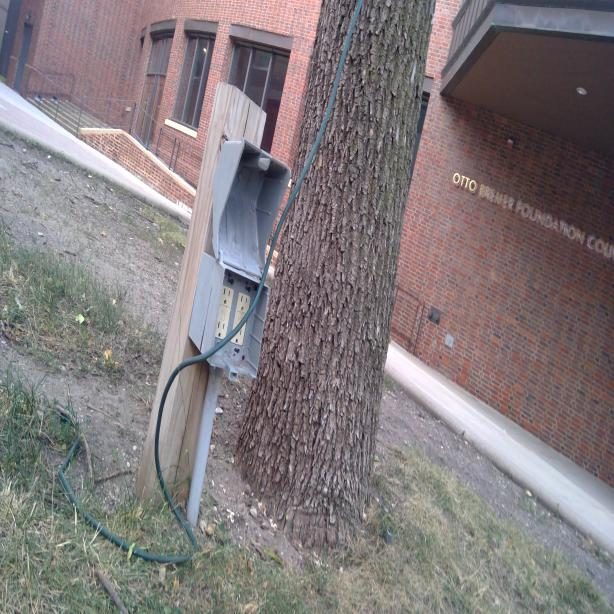typeb: (220, 284, 237, 312), (234, 328, 244, 347), (217, 320, 227, 338), (240, 295, 248, 311)
